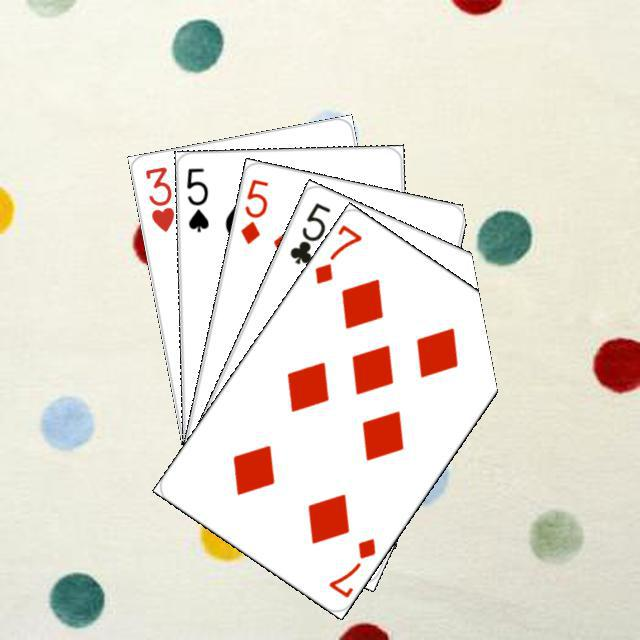3h: (140, 161, 176, 234)
5c: (284, 197, 332, 267)
5d: (235, 174, 270, 246)
5s: (182, 163, 210, 234)
7d: (309, 220, 364, 286), (323, 533, 378, 599)
